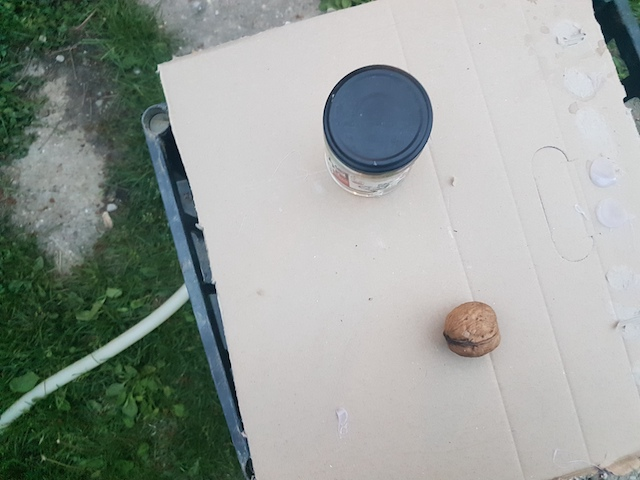nut: (442, 298, 504, 360)
recipient: (325, 64, 436, 171)
